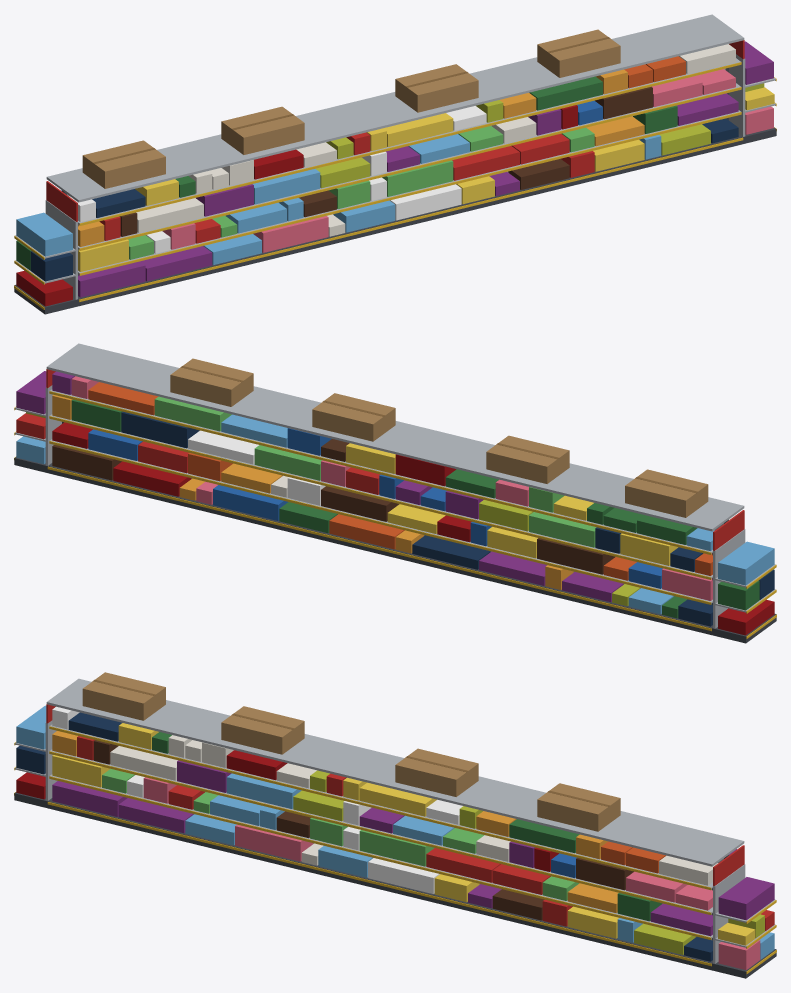
Rendered from gondola.glb.
3 views of the same model, one above another, from view 1: azimuth 30°, elevation 25°; view 2: azimuth 150°, elevation 25°; view 3: azimuth 330°, elevation 25° (orthographic).
Visible parts, largest first — view 1: shelf_metal, cardboard, price_tag, stock_sky, stock_purple, stock_yellow, stock_cream, shelf_dark, stock_pink, stock_red, stock_lime, stock_white (+9 smaller); view 2: shelf_metal, cardboard, price_tag, stock_green, shelf_dark, stock_blue, stock_crimson, stock_purple, stock_navy, stock_sky, stock_yellow, stock_brown (+9 smaller); view 3: shelf_metal, cardboard, price_tag, stock_purple, stock_sky, stock_yellow, stock_cream, shelf_dark, stock_pink, stock_red, stock_lime, stock_white (+9 smaller).
Part boxes in pixels (box(x1,y1,x2,y2)): shelf_metal: box(15, 14, 775, 299); cardboard: box(82, 29, 620, 188); price_tag: box(14, 62, 776, 309); stock_sky: box(16, 134, 661, 264); stock_purple: box(78, 41, 773, 297); stock_yellow: box(78, 87, 774, 271); stock_cream: box(136, 44, 735, 236); shelf_dark: box(14, 68, 776, 314); stock_pink: box(162, 69, 773, 252); stock_red: box(99, 132, 594, 243); stock_lime: box(128, 126, 594, 259); stock_white: box(69, 106, 486, 253); shelf_metal: box(15, 343, 775, 628); cardboard: box(170, 358, 708, 517); price_tag: box(14, 391, 776, 638); stock_green: box(71, 399, 759, 618); shelf_dark: box(14, 422, 776, 643); stock_blue: box(88, 428, 662, 588); stock_crimson: box(52, 422, 774, 635); stock_purple: box(16, 371, 623, 602); stock_navy: box(121, 411, 774, 626); stock_sky: box(16, 414, 774, 614); stock_yellow: box(346, 443, 678, 565); stock_brown: box(52, 439, 614, 574); shelf_metal: box(15, 678, 775, 963); cardboard: box(82, 672, 620, 831); price_tag: box(14, 726, 776, 974); stock_purple: box(52, 760, 774, 936); stock_sky: box(16, 705, 774, 959); stock_yellow: box(52, 723, 755, 945); stock_cream: box(110, 735, 718, 885); shelf_dark: box(14, 792, 776, 978); stock_pink: box(143, 777, 760, 970); stock_red: box(77, 736, 774, 930); stock_lime: box(102, 769, 579, 900); stock_white: box(52, 706, 462, 893).
Size of the model in its own units: 13.22 by 2.14 by 1.
